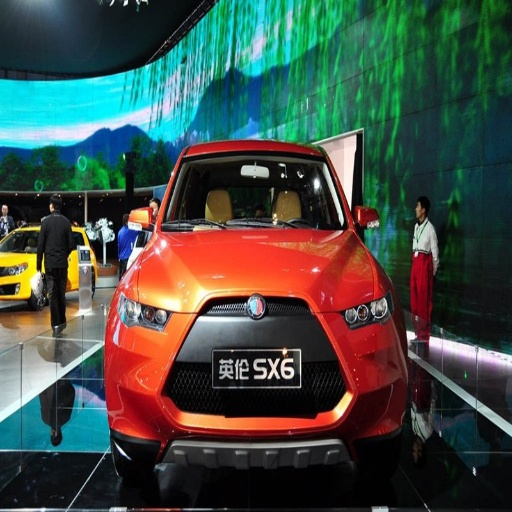front_bumper: (106, 292, 403, 453)
front_right_light: (118, 281, 168, 329)
hood: (135, 230, 384, 310)
